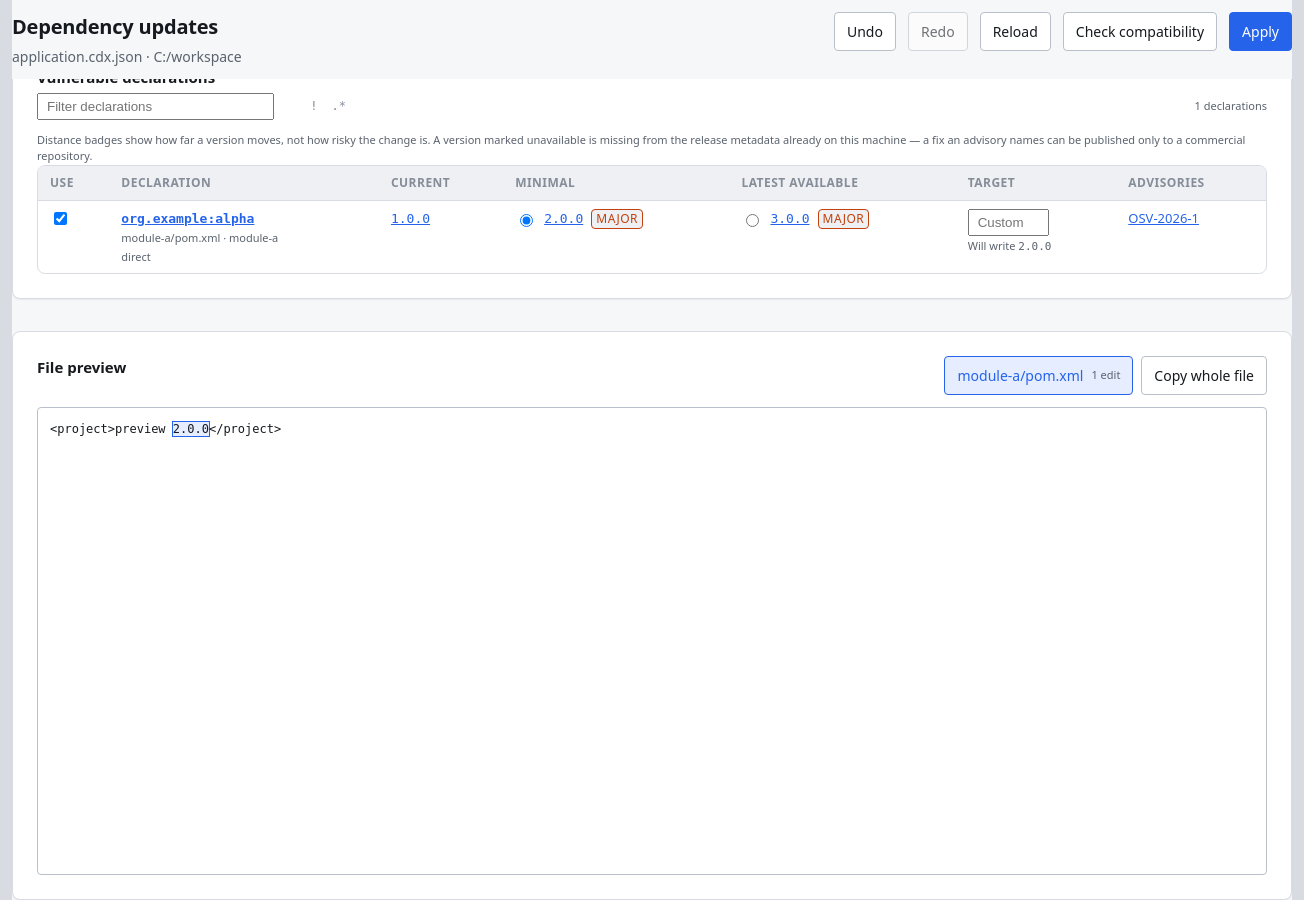
Test: BumpPage › undoes a preview text edit back to the server preview on the same stack
The width and height of the screenshot is (1304, 900).
(page scrolled)
Replace the text in the text box named "Edit module-a/pom.xml" with "<project>typed by user</project>" at point(652, 641), box 38,408 -> 1266,874
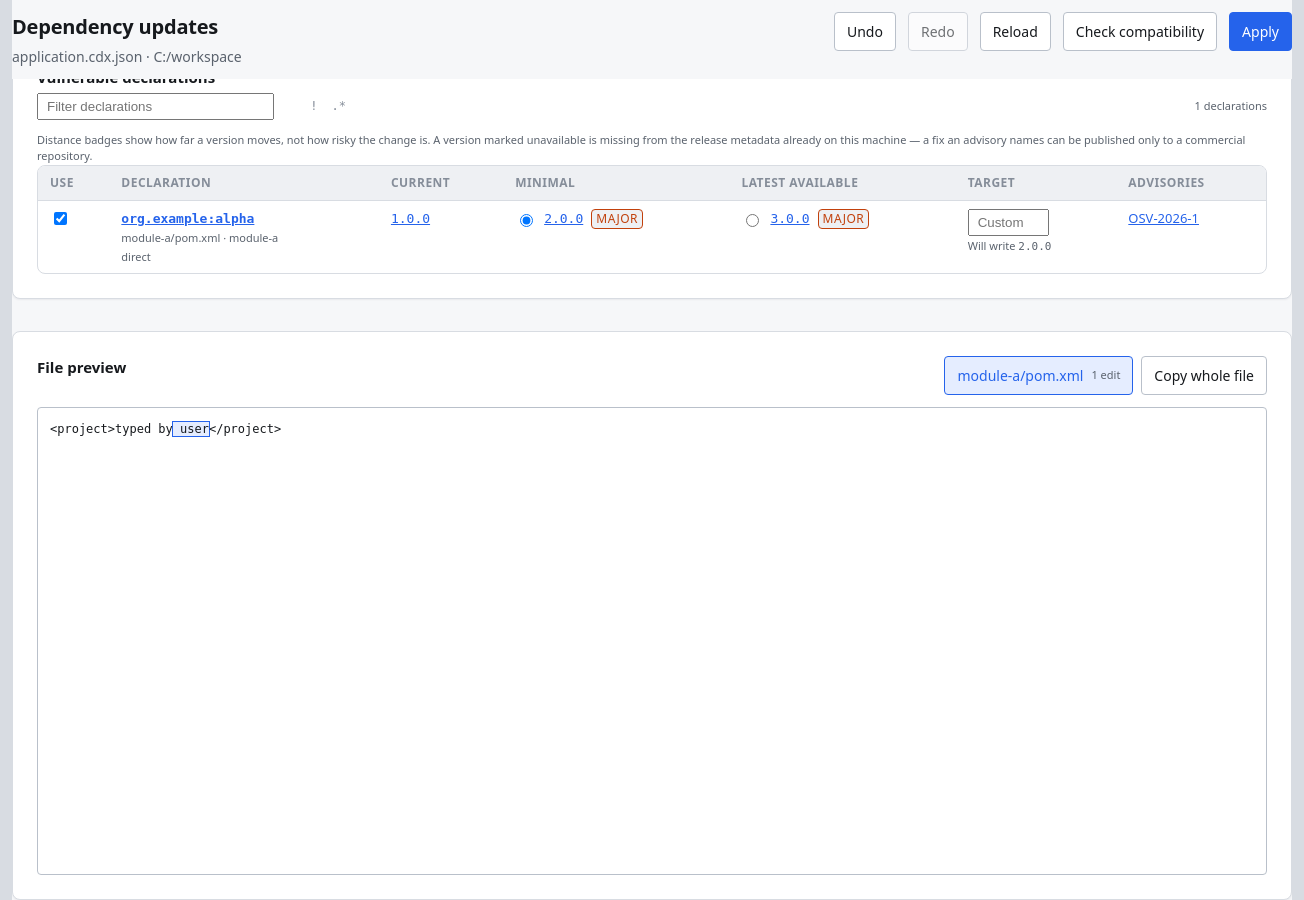
Click the button "Undo".
click(865, 32)  # box 834,12 -> 896,51
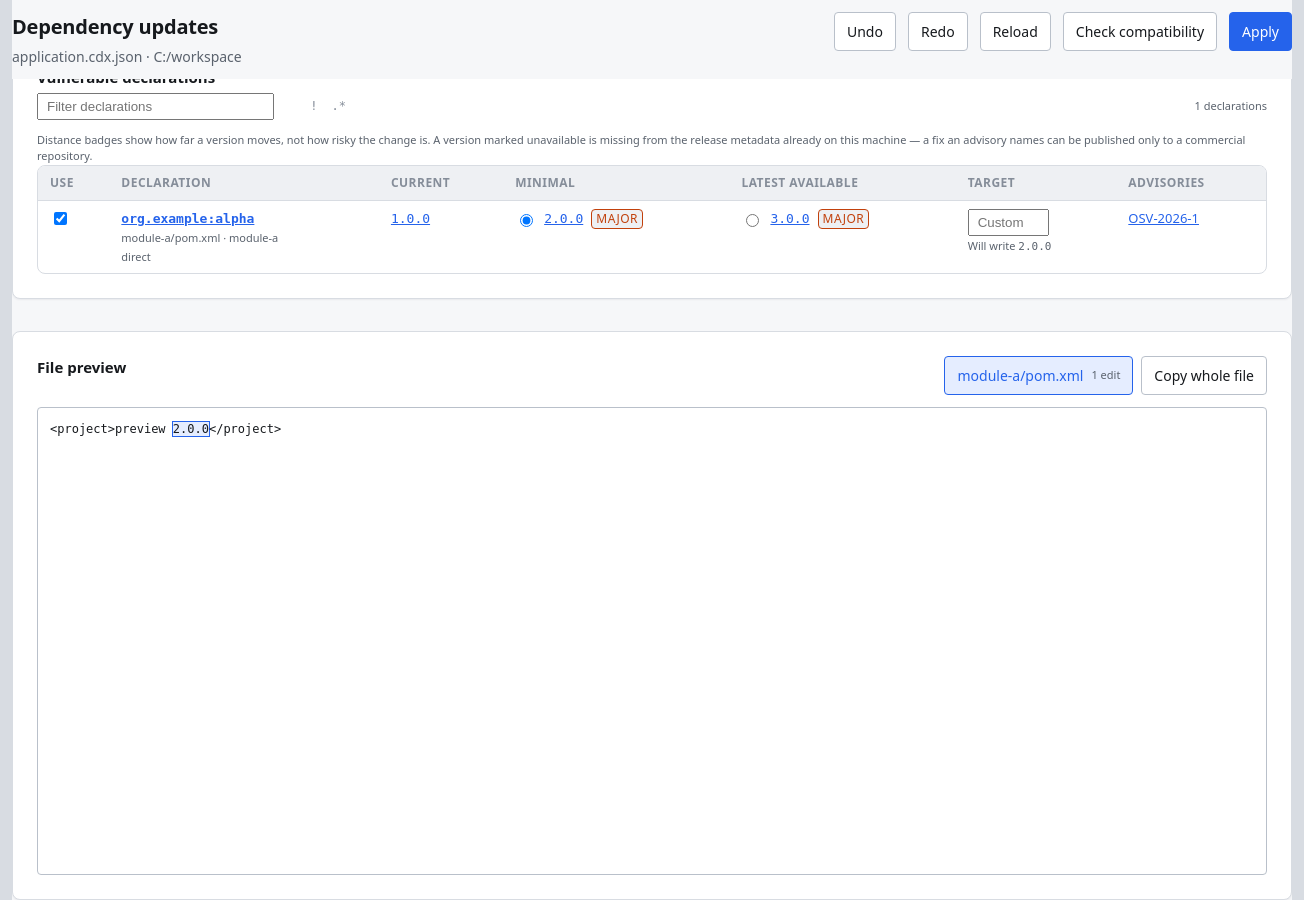
Check: the text box named "Edit module-a/pom.xml" holds "<project>preview 2.0.0</project>", box 38,408 -> 1266,874
